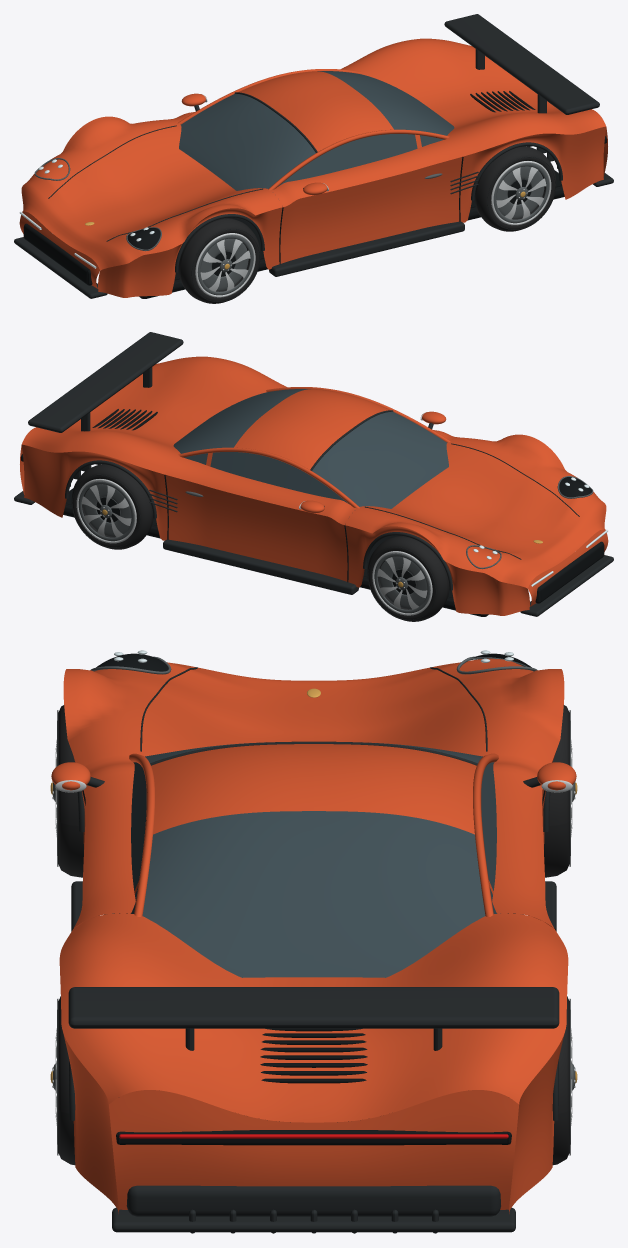
Rendered from strada-r.glb.
The picture shows the model from 3 angles, top to bottom: view 1: azimuth 30°, elevation 25°; view 2: azimuth 150°, elevation 25°; view 3: azimuth 270°, elevation 25°; orthographic projection. The views are drawn at different scales.
Parts seen in each view (by area): view 1: Static_Enamel, LeftDoor_Enamel, Static_Smoked glazing, Static_Carbon, Static_Rubber, Static_Recess, Static_Graphite alloy, Static_Machined alloy, LeftDoor_Smoked glazing; view 2: Static_Enamel, RightDoor_Enamel, Static_Smoked glazing, Static_Carbon, Static_Rubber, Static_Recess, Static_Graphite alloy, Static_Machined alloy, RightDoor_Smoked glazing; view 3: Static_Enamel, Static_Smoked glazing, Static_Carbon, Static_Recess, Static_Rubber, LeftDoor_Enamel, RightDoor_Enamel, Static_Tail lights, LeftDoor_Smoked glazing, RightDoor_Smoked glazing, Static_Machined alloy, Static_Graphite alloy.
Boxes of the visible parts, left/top/right/bottom form: Static_Enamel: left=19, top=38, right=607, bottom=297; LeftDoor_Enamel: left=271, top=138, right=462, bottom=263; Static_Smoked glazing: left=179, top=71, right=454, bottom=190; Static_Carbon: left=14, top=14, right=613, bottom=301; Static_Rubber: left=178, top=146, right=556, bottom=303; Static_Recess: left=23, top=91, right=606, bottom=298; Static_Graphite alloy: left=34, top=158, right=549, bottom=295; Static_Machined alloy: left=195, top=161, right=551, bottom=297; LeftDoor_Smoked glazing: left=278, top=134, right=417, bottom=186; Static_Enamel: left=20, top=356, right=608, bottom=615; RightDoor_Enamel: left=165, top=456, right=356, bottom=581; Static_Smoked glazing: left=173, top=389, right=448, bottom=508; Static_Carbon: left=14, top=332, right=613, bottom=619; Static_Rubber: left=71, top=464, right=449, bottom=621; Static_Recess: left=21, top=409, right=604, bottom=616; Static_Graphite alloy: left=78, top=476, right=593, bottom=613; Static_Machined alloy: left=76, top=479, right=432, bottom=615; RightDoor_Smoked glazing: left=210, top=452, right=349, bottom=504; Static_Enamel: left=59, top=658, right=568, bottom=1213; Static_Smoked glazing: left=127, top=742, right=500, bottom=977; Static_Carbon: left=57, top=667, right=570, bottom=1233; Static_Recess: left=96, top=653, right=531, bottom=1145; Static_Rubber: left=58, top=705, right=569, bottom=1165; LeftDoor_Enamel: left=51, top=755, right=135, bottom=928; RightDoor_Enamel: left=492, top=755, right=576, bottom=928; Static_Tail lights: left=119, top=1134, right=508, bottom=1138; LeftDoor_Smoked glazing: left=131, top=762, right=146, bottom=890; RightDoor_Smoked glazing: left=481, top=762, right=496, bottom=890; Static_Machined alloy: left=52, top=721, right=575, bottom=1144; Static_Graphite alloy: left=52, top=656, right=575, bottom=1090.
Bounding box in the file's own units: 4.68 × 1.11 × 2.08.
